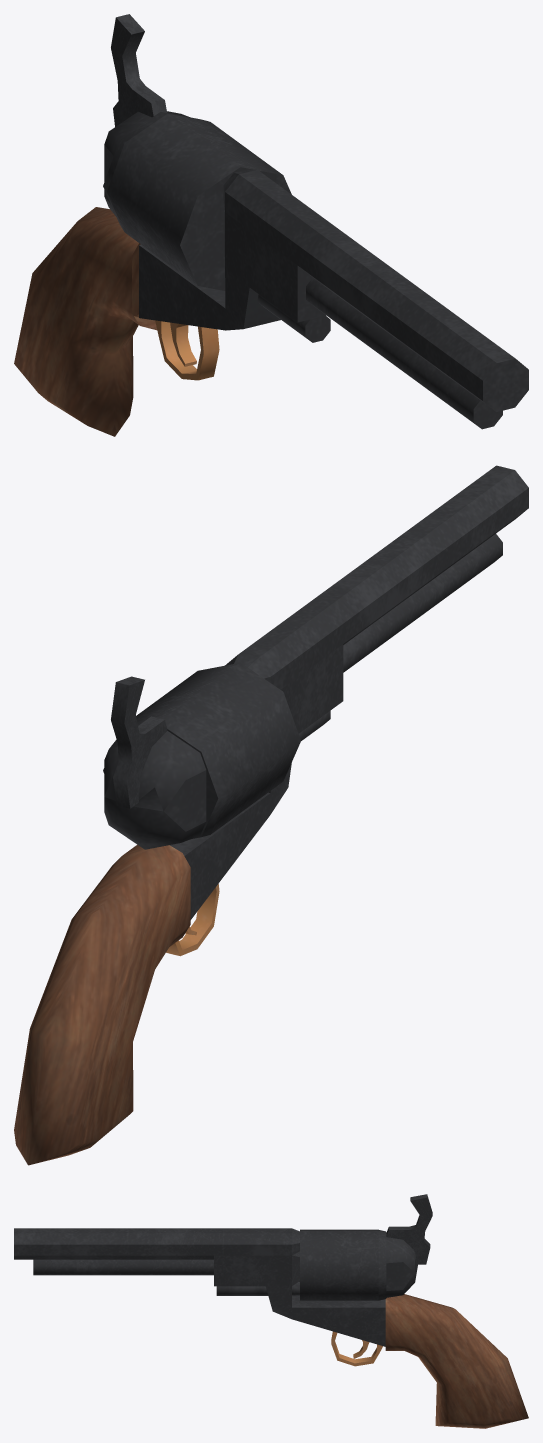
The model's file is 1214早期柯尔特.FBX.
3 renders of one model, top to bottom at view 1: azimuth 30°, elevation 25°; view 2: azimuth 150°, elevation 25°; view 3: azimuth 270°, elevation 25°, orthographic. The views are drawn at different scales.
Parts seen in each view (by area): view 1: 1214_ColtEarlyType; view 2: 1214_ColtEarlyType; view 3: 1214_ColtEarlyType.
Boxes of the visible parts, x1,y1,x2,y2 form: 1214_ColtEarlyType: [14, 14, 528, 436]; 1214_ColtEarlyType: [14, 465, 528, 1165]; 1214_ColtEarlyType: [14, 1194, 528, 1428].
Size of the model in its own units: 6.59 by 22.45 by 44.99.
Materials: 1 (1 with a texture image).
